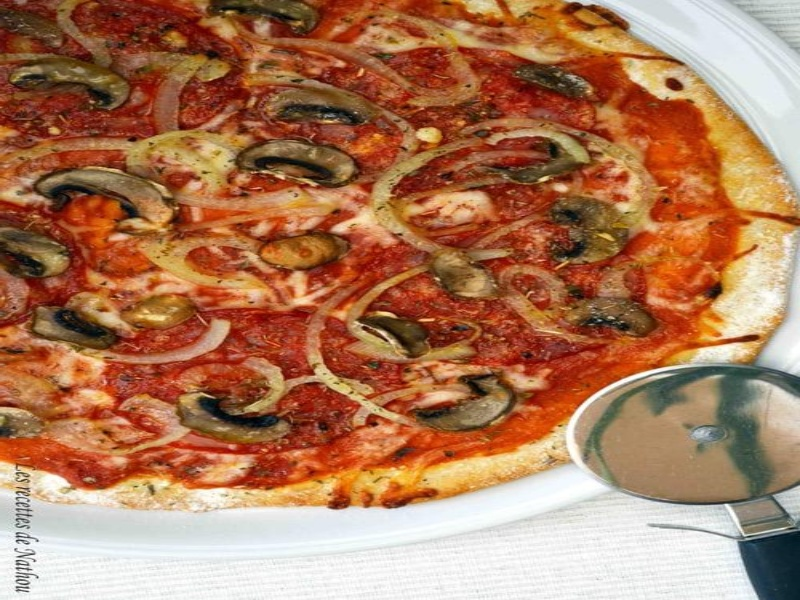champignon: (32, 163, 181, 228), (168, 385, 298, 450), (543, 187, 638, 275), (229, 131, 361, 194), (405, 372, 522, 434), (21, 295, 128, 362), (10, 56, 133, 112), (256, 80, 398, 128)
